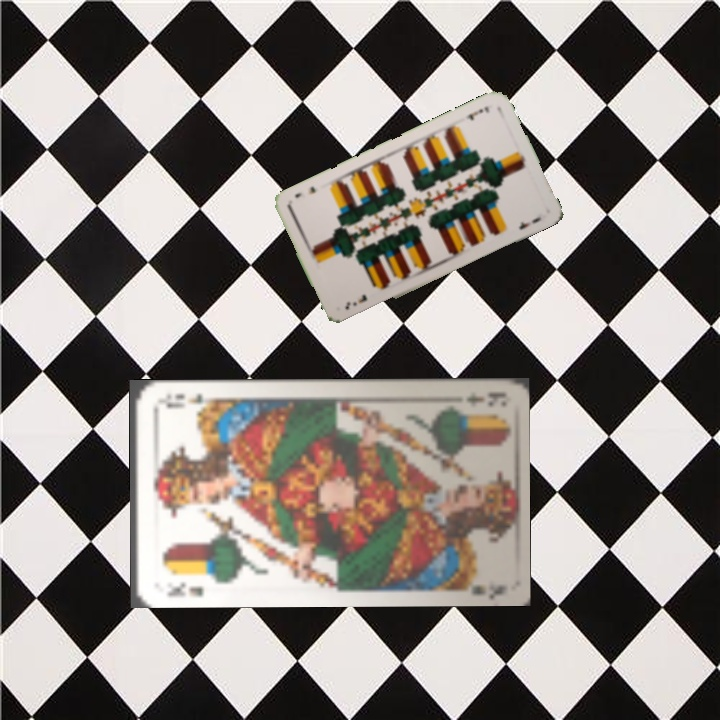E7: (341, 290, 370, 313), (461, 102, 492, 123)
EK: (163, 577, 206, 599), (462, 388, 503, 410)
